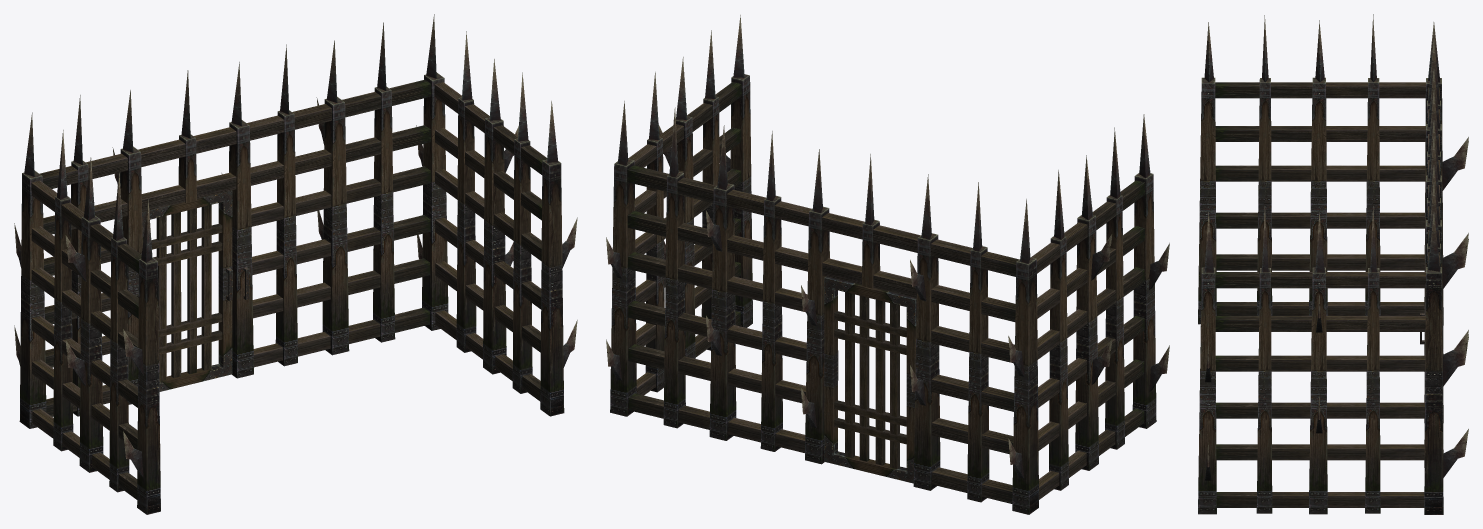
Rendered from Maincity10_Object_Lf.FBX.
3 renders of one model, left to right at view 1: azimuth 30°, elevation 25°; view 2: azimuth 150°, elevation 25°; view 3: azimuth 270°, elevation 25°, orthographic. The views are drawn at different scales.
Visible parts, largest first — view 1: Maincity10_Object_Lf; view 2: Maincity10_Object_Lf; view 3: Maincity10_Object_Lf.
Part boxes in pixels (x1,y1,x2,y2): Maincity10_Object_Lf: (14,14,577,514); Maincity10_Object_Lf: (606,15,1169,514); Maincity10_Object_Lf: (1198,14,1468,514).
Bounding box in the file's own units: 1327 × 887 × 709.
Materials: 1 (1 with a texture image).
